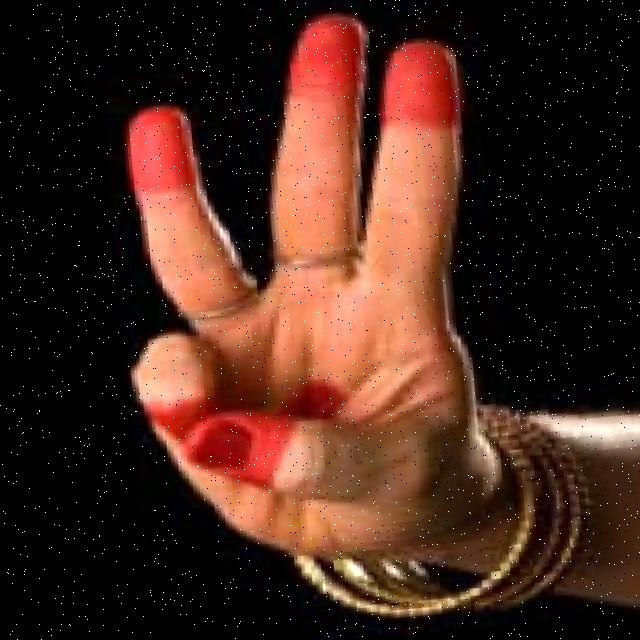Trishula: (65, 0, 619, 599)
